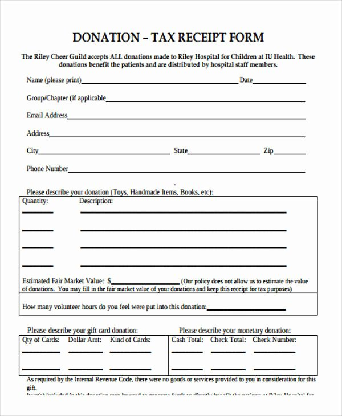textline: (78, 234, 288, 252), (79, 250, 289, 268), (66, 108, 309, 122), (50, 126, 309, 139), (78, 218, 288, 234), (67, 162, 308, 174), (104, 91, 308, 104), (80, 71, 240, 87), (78, 205, 287, 216), (39, 143, 172, 157), (187, 141, 262, 158), (206, 300, 288, 312), (252, 70, 308, 87), (109, 276, 181, 286), (108, 357, 155, 372), (252, 357, 297, 372), (21, 358, 62, 373), (271, 143, 310, 158), (210, 357, 248, 372), (21, 253, 54, 270), (251, 344, 297, 356), (66, 358, 105, 372), (20, 236, 55, 251), (170, 357, 203, 372), (21, 344, 62, 356), (107, 344, 155, 354), (20, 205, 56, 218), (208, 344, 248, 355), (68, 344, 104, 356), (21, 222, 55, 234), (170, 344, 203, 355)
